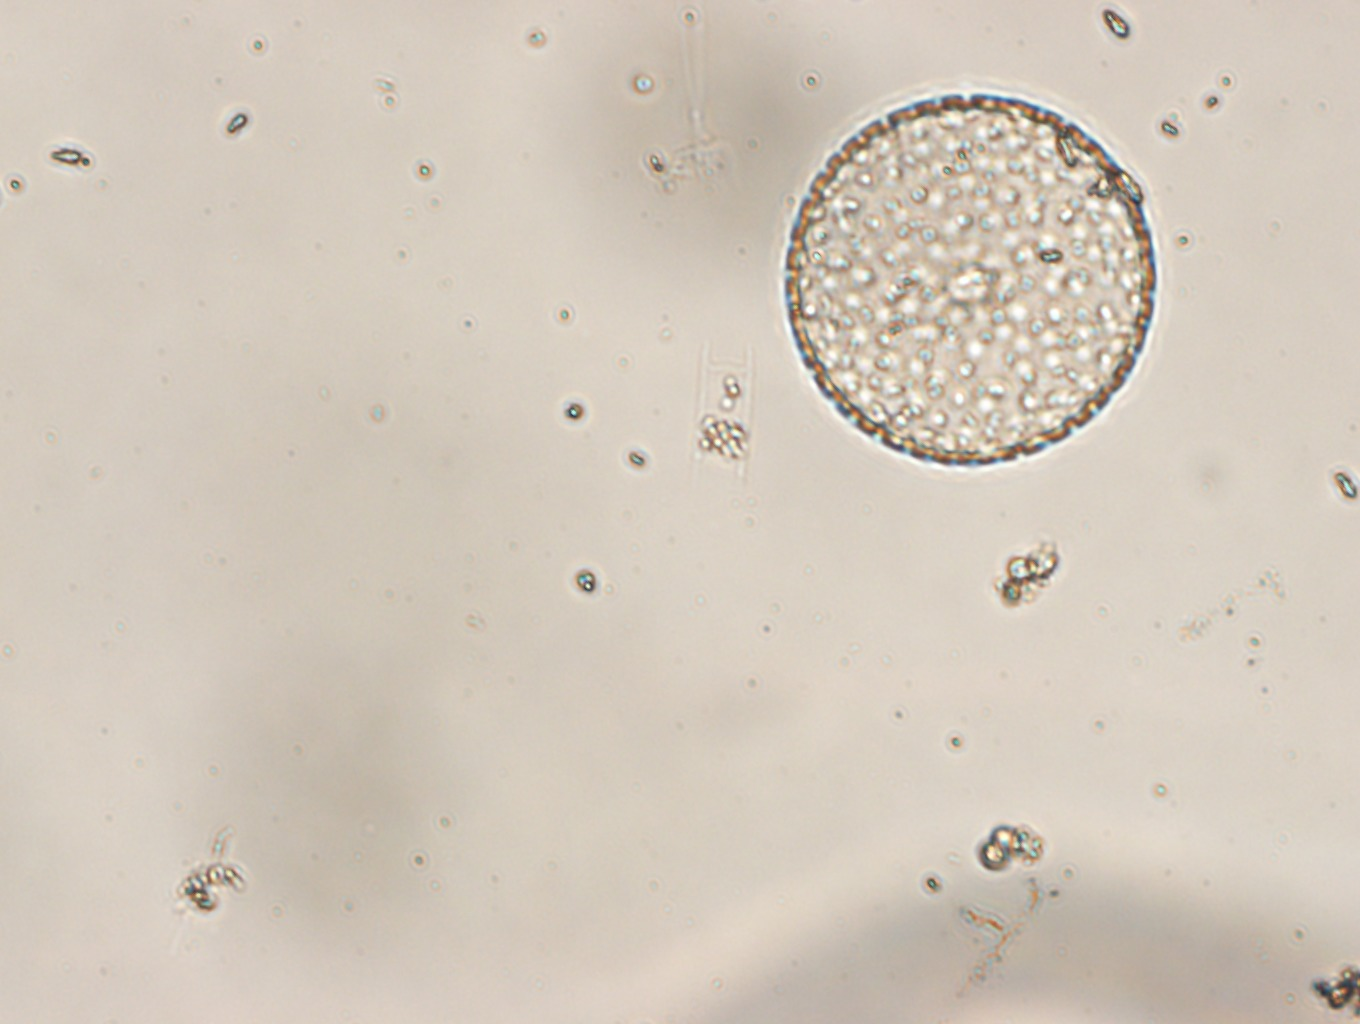coscinodiscus: (782, 87, 1160, 470)
